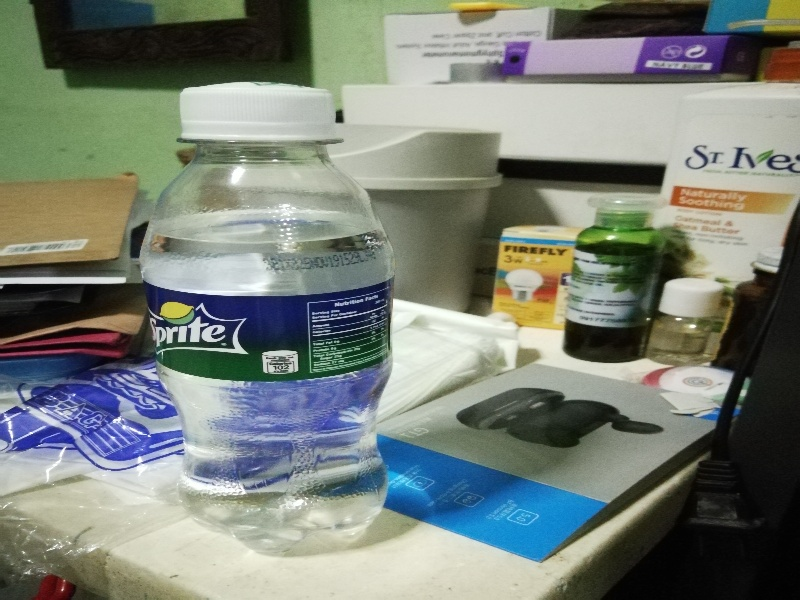PET #1: (140, 81, 397, 554)
